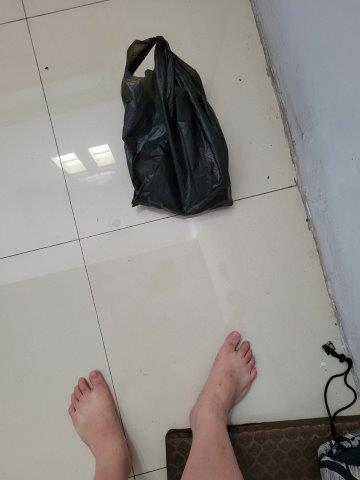plastik: (121, 36, 235, 215)
